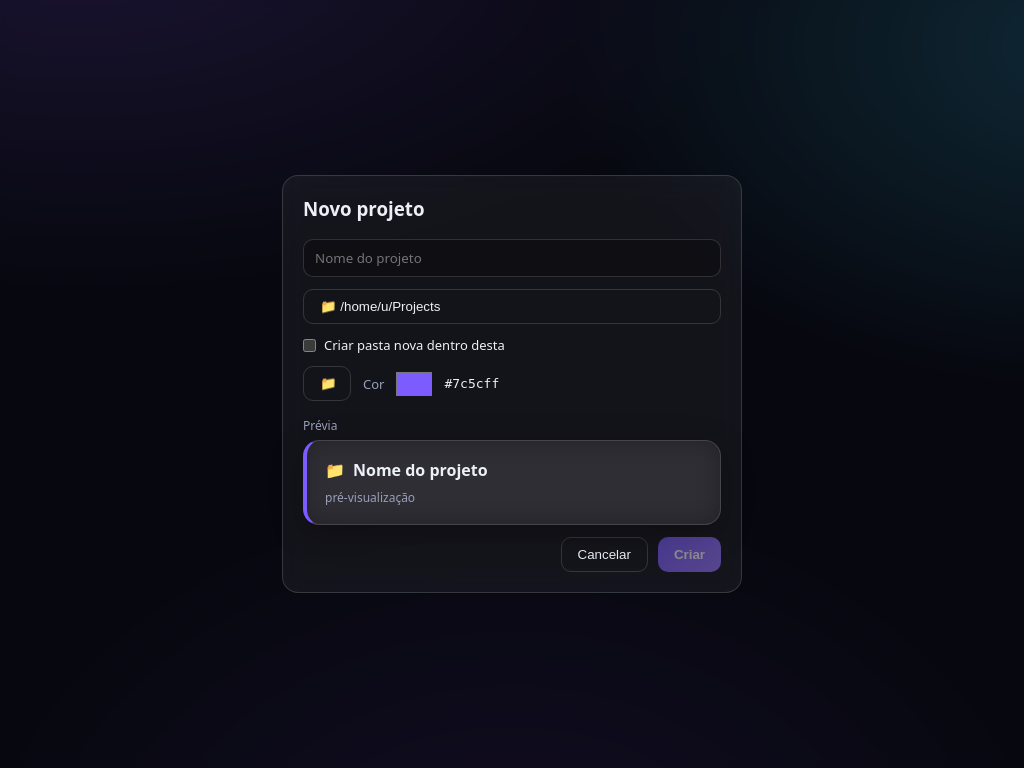
Scenario: NewProjectModal › pasta padrão › trocar a pasta abre o seletor dentro da pasta padrão
Click the text "/home/u/Projects": (390, 307) [340,299,440,314]
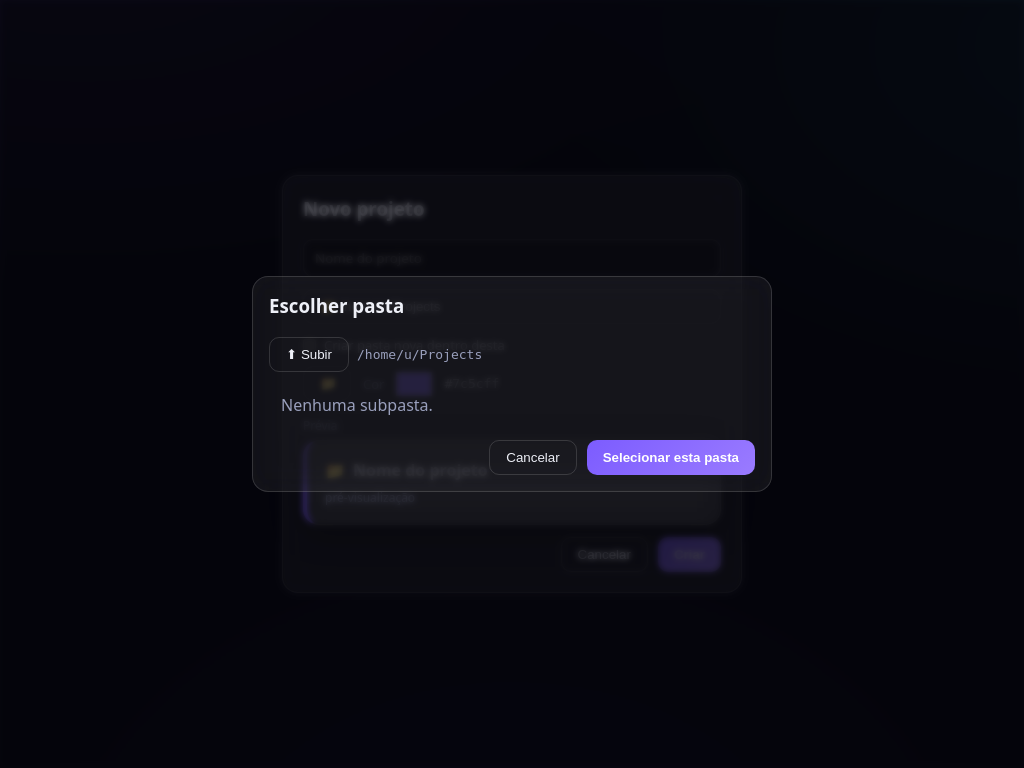
Expected: the button "Selecionar esta pasta" is shown, [587,440,755,475]
